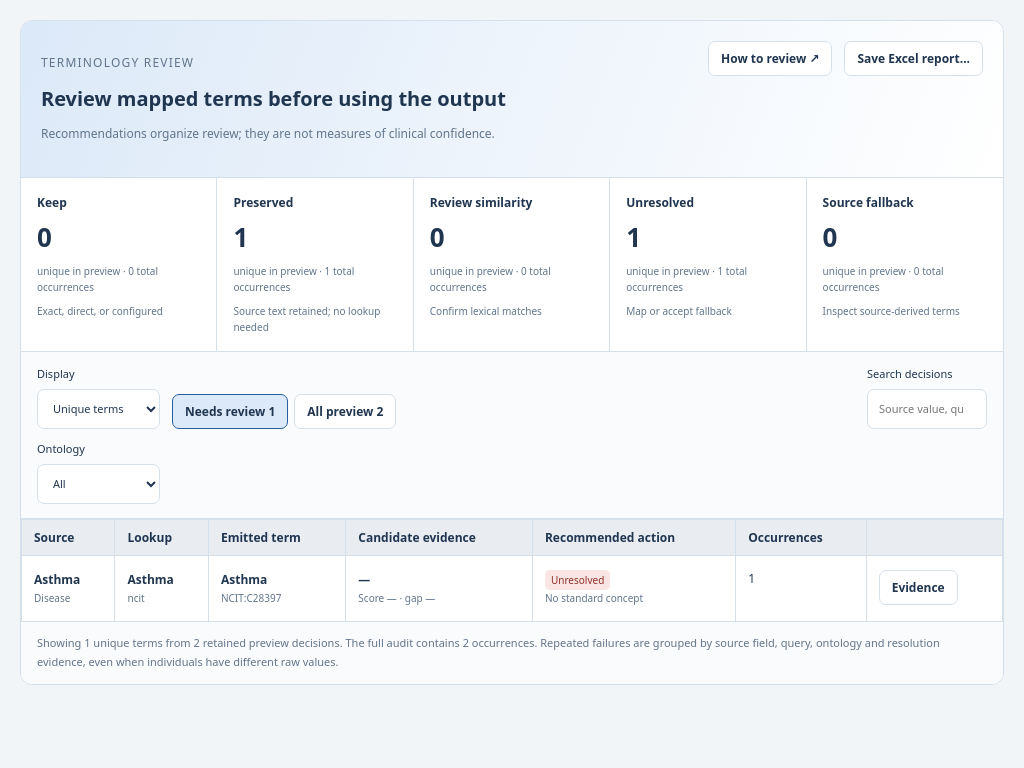
Test case: shows preserved source values separately from failed lookups and needs review
Expected: the text "England" is not shown
Click the button "Preserved".
click(316, 264)  # box [217,178,414,351]
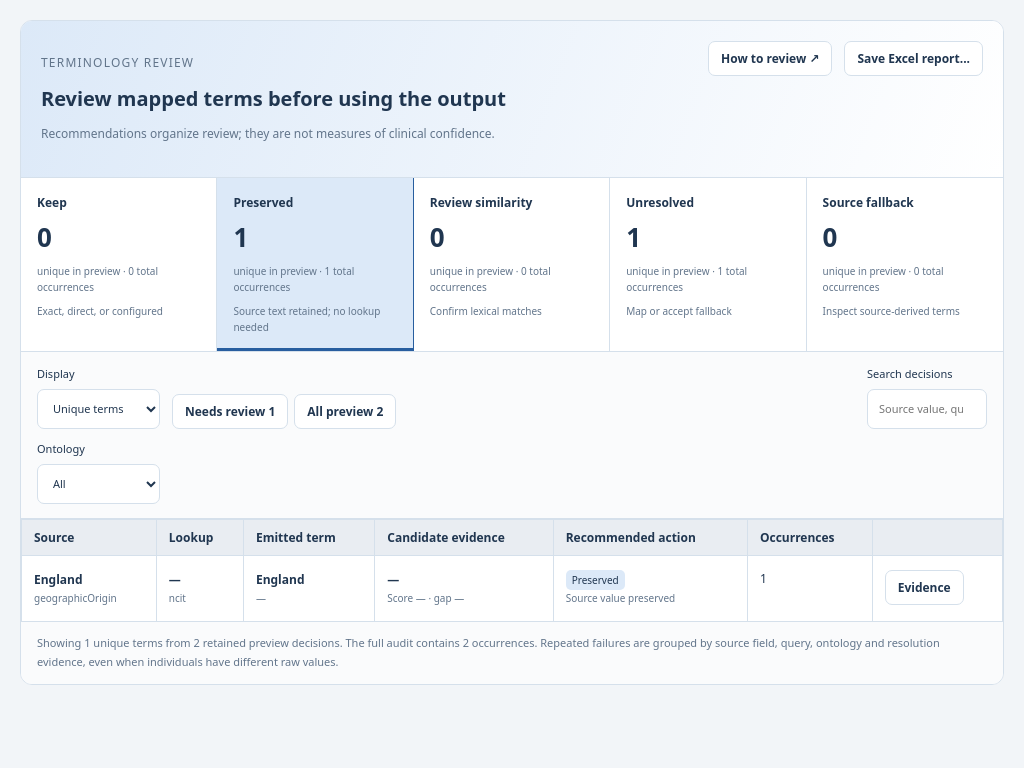
Expected: the text "England" is shown 2 times, [34,571,83,588]; [256,571,304,588]
Result: the text "Preserved" below "Emitted term" is shown at [572,573,619,587]
